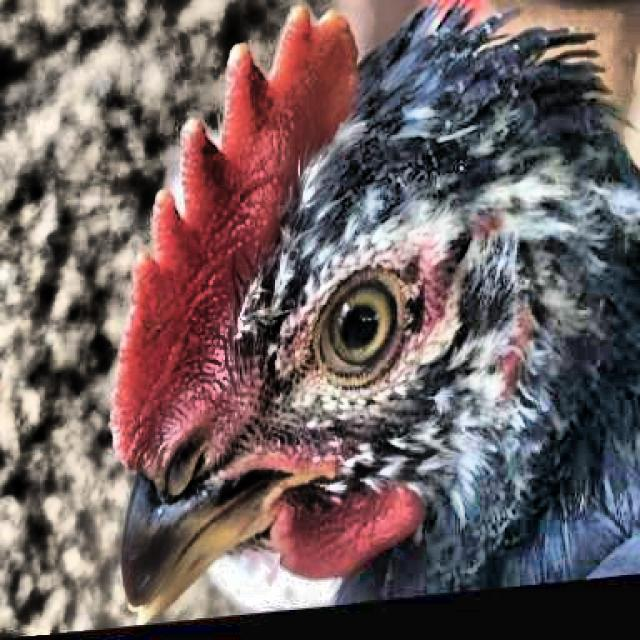Healthy: (308, 254, 430, 408)
